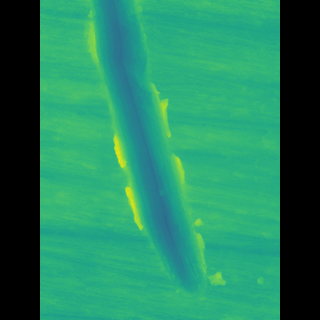Loch: (101, 0, 203, 304)
